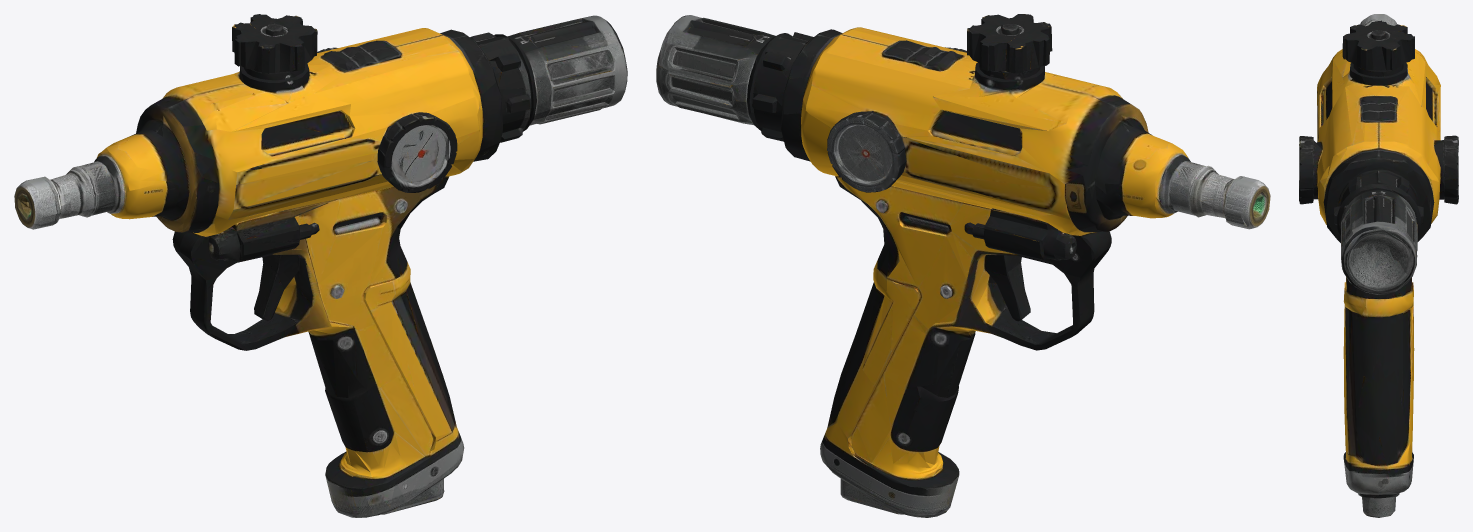
The model's file is mender.glb.
3 renders of one model, left to right at view 1: azimuth 30°, elevation 25°; view 2: azimuth 150°, elevation 25°; view 3: azimuth 270°, elevation 25°, orthographic. The views are drawn at different scales.
Bounding box in the file's own units: 1.9 × 1.58 × 0.5447.
Materials: 1 (1 with a texture image).
